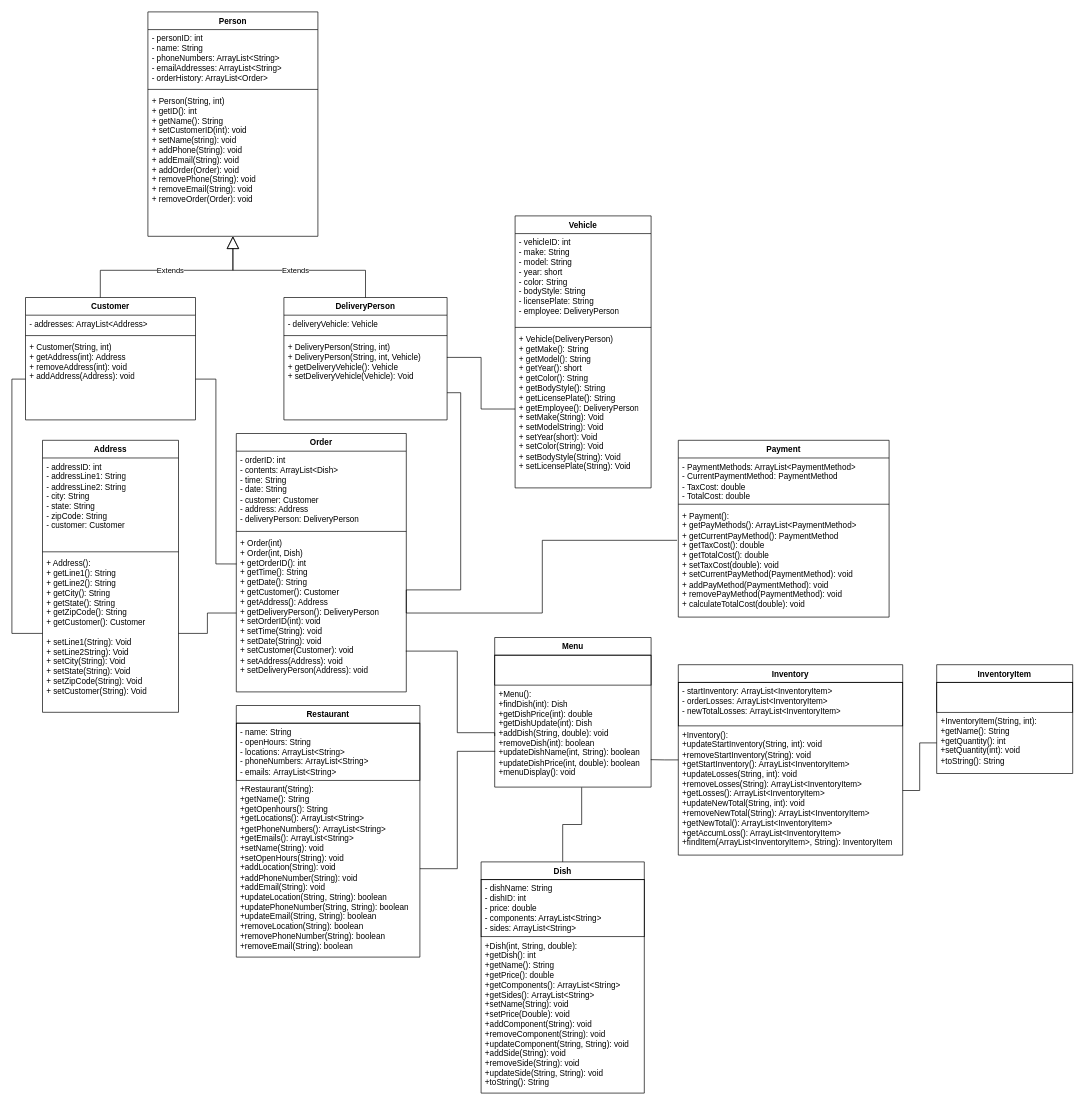
Some shapes in this 1085 by 1107 pixel diagram are drawn without their labels. Here are the shapes that lost their labels. From the top down, the box of each, then its label:
(494, 654, 651, 685): dishes: ArrayList<Dish> nextDishID: int
(936, 682, 1073, 712): - name: String - quantity: int
